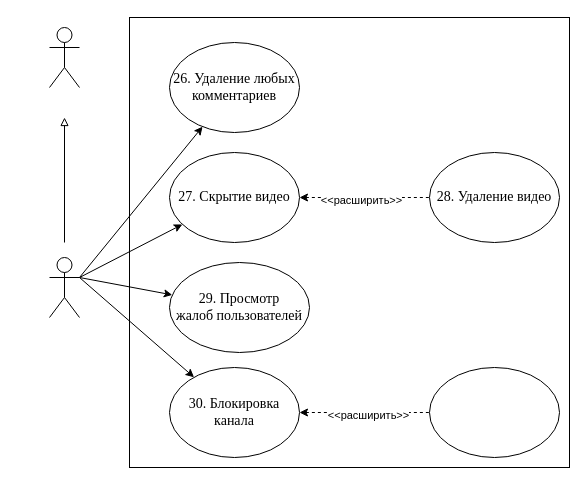
This 587x485 diagram has some shape labels left out. The box of each missing label's shape, as (x1, y1, x2, y2) in pixels:
31. Удаление канала: (428, 366, 560, 458)
Администратор: (48, 256, 80, 318)
Клиент: (48, 26, 80, 88)
